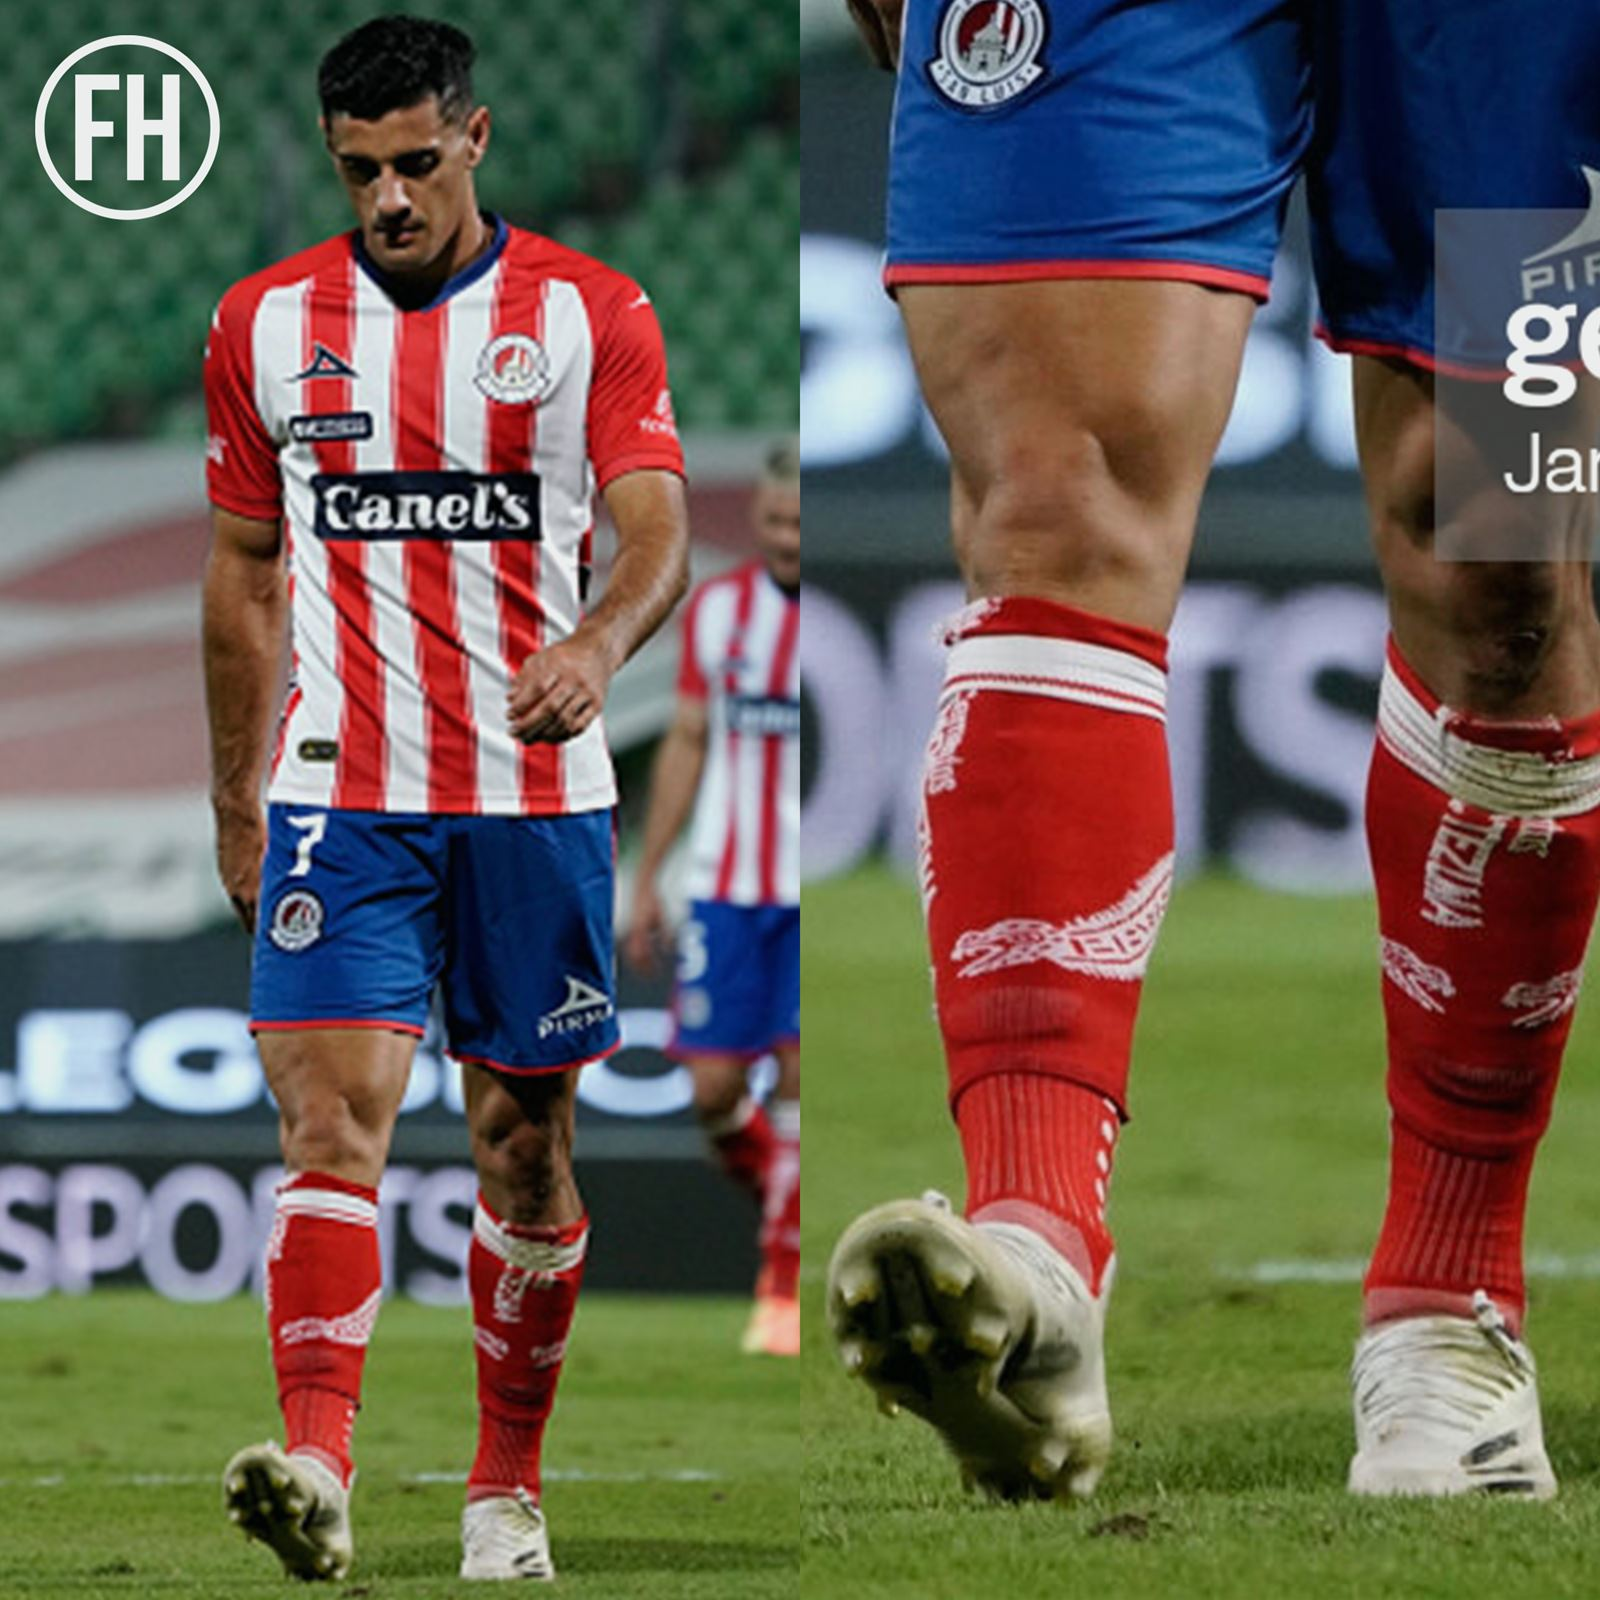football boots: (826, 1201, 1112, 1503), (1347, 1310, 1558, 1508), (218, 1445, 352, 1585), (462, 1497, 555, 1585)
